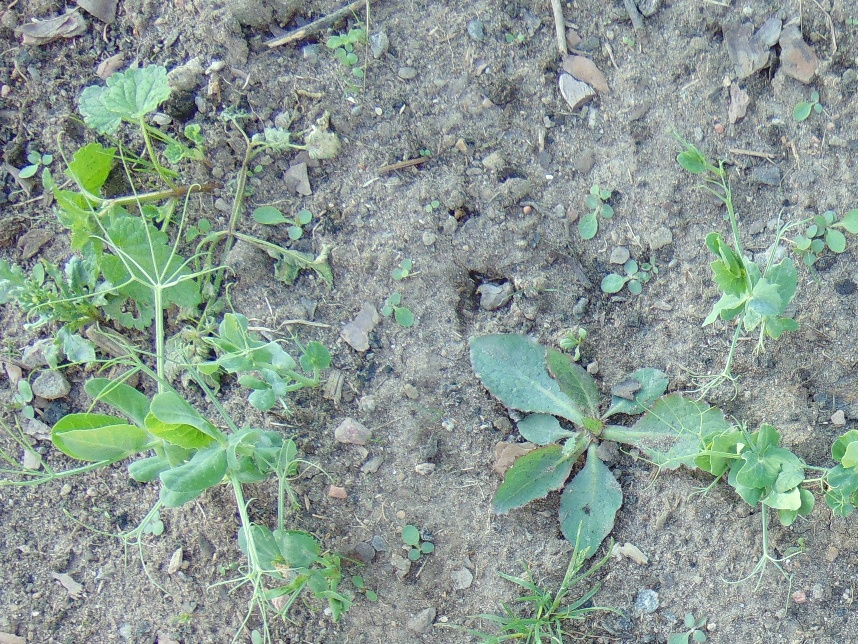crop: (7, 312, 330, 545), (670, 129, 804, 398), (653, 407, 858, 581), (227, 445, 342, 644), (104, 231, 206, 428)
weed: (471, 332, 670, 555), (13, 64, 212, 265), (1, 255, 152, 331), (494, 562, 601, 644), (805, 207, 858, 262), (577, 187, 618, 239), (253, 205, 315, 239), (600, 259, 653, 295), (327, 29, 362, 78), (379, 292, 415, 326), (791, 88, 824, 122), (402, 525, 434, 559), (349, 573, 378, 604), (391, 255, 412, 280)
